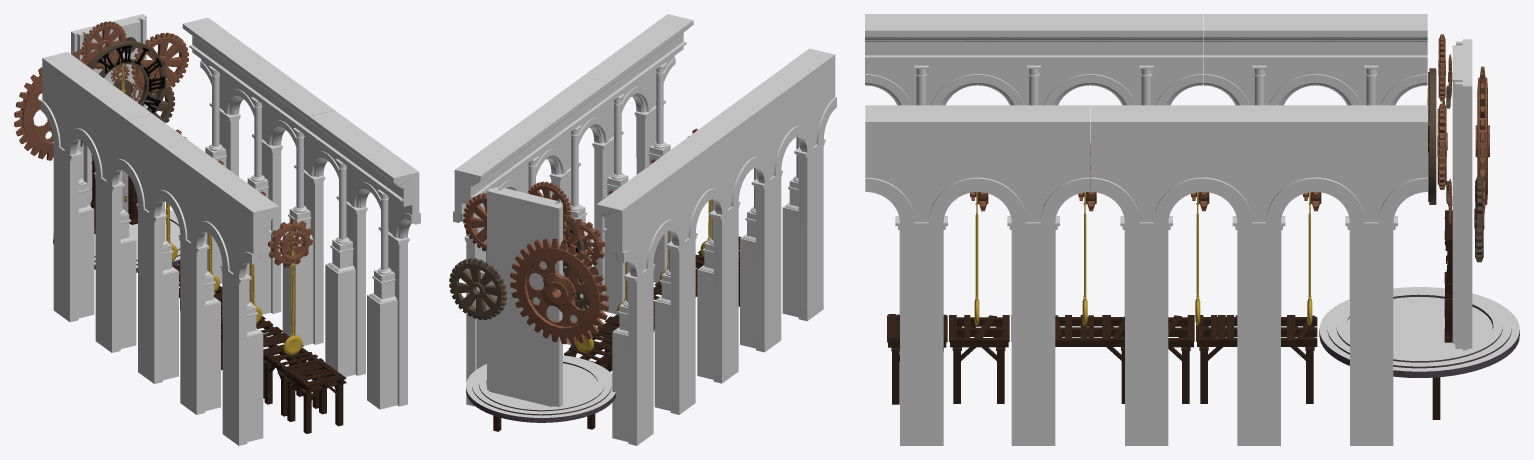
File: HapticRoom02.fbx
3 renders of one model, left to right at view 1: azimuth 30°, elevation 25°; view 2: azimuth 150°, elevation 25°; view 3: azimuth 270°, elevation 25°, orthographic. The views are drawn at different scales.
Visible parts, largest first — view 1: Stone _LOW.003, Stone _LOW.004, Stone _LOW, Stone _LOW.014, Stone _LOW.002, Stone _LOW.001, Stone _LOW.010, Stone _LOW.011, Stone _LOW.012, Stone _LOW.013, Wooden_bridge-material.036, Clock (+11 smaller); view 2: Door Wall, Stone _LOW.004, Stone _LOW.003, Stone _LOW, Stone _LOW.002, Stone _LOW.001, Gear 09, Stone _LOW.010, Stone _LOW.014, Platform 07, Stone _LOW.013, Stone _LOW.011 (+8 smaller); view 3: Stone _LOW.010, Stone _LOW.012, Stone _LOW.011, Stone _LOW.014, Stone _LOW.013, Platform 07, Stone _LOW.002, Stone _LOW.003, Stone _LOW, Stone _LOW.004, Stone _LOW.001, Door Wall (+10 smaller).
Boxes of the visible parts, bbox=[...] form: Stone _LOW.003: bbox=[209, 175, 278, 445]; Stone _LOW.004: bbox=[40, 52, 109, 322]; Stone _LOW: bbox=[82, 83, 151, 352]; Stone _LOW.014: bbox=[351, 141, 420, 409]; Stone _LOW.002: bbox=[167, 144, 236, 414]; Stone _LOW.001: bbox=[125, 113, 193, 383]; Stone _LOW.010: bbox=[309, 110, 376, 376]; Stone _LOW.011: bbox=[267, 79, 334, 345]; Stone _LOW.012: bbox=[224, 48, 291, 314]; Stone _LOW.013: bbox=[182, 17, 249, 283]; Wooden_bridge-material.036: bbox=[284, 361, 346, 433]; Clock: bbox=[87, 41, 166, 114]; Door Wall: bbox=[487, 187, 562, 407]; Stone _LOW.004: bbox=[596, 173, 666, 445]; Stone _LOW.003: bbox=[767, 48, 836, 321]; Stone _LOW: bbox=[639, 142, 708, 414]; Stone _LOW.002: bbox=[724, 79, 794, 352]; Stone _LOW.001: bbox=[682, 111, 751, 383]; Gear 09: bbox=[510, 238, 608, 344]; Stone _LOW.010: bbox=[583, 45, 650, 314]; Stone _LOW.014: bbox=[625, 14, 693, 282]; Platform 07: bbox=[466, 355, 615, 422]; Stone _LOW.013: bbox=[453, 138, 522, 406]; Stone _LOW.011: bbox=[540, 76, 608, 345]; Stone _LOW.010: bbox=[977, 105, 1089, 445]; Stone _LOW.012: bbox=[1202, 105, 1315, 445]; Stone _LOW.011: bbox=[1090, 105, 1202, 445]; Stone _LOW.014: bbox=[865, 105, 978, 445]; Stone _LOW.013: bbox=[1315, 105, 1427, 445]; Platform 07: bbox=[1319, 287, 1519, 377]; Stone _LOW.002: bbox=[977, 14, 1090, 314]; Stone _LOW.003: bbox=[865, 14, 977, 314]; Stone _LOW: bbox=[1203, 14, 1315, 337]; Stone _LOW.004: bbox=[1315, 14, 1427, 298]; Stone _LOW.001: bbox=[1090, 14, 1202, 315]; Door Wall: bbox=[1452, 39, 1472, 350].
Size of the model in its own units: 788 by 1121 by 1921.
